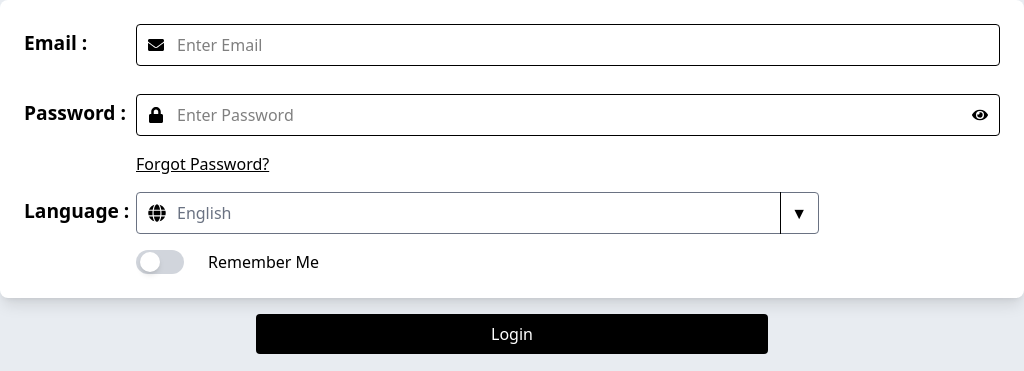
Scenario: LoginForm › shows alert when email is not corporate
This screenshot has width=1024, height=371.
Type "test@gmail.com" into the field with placeholder "Enter Email" at (568, 45), box [136,24,1000,66]
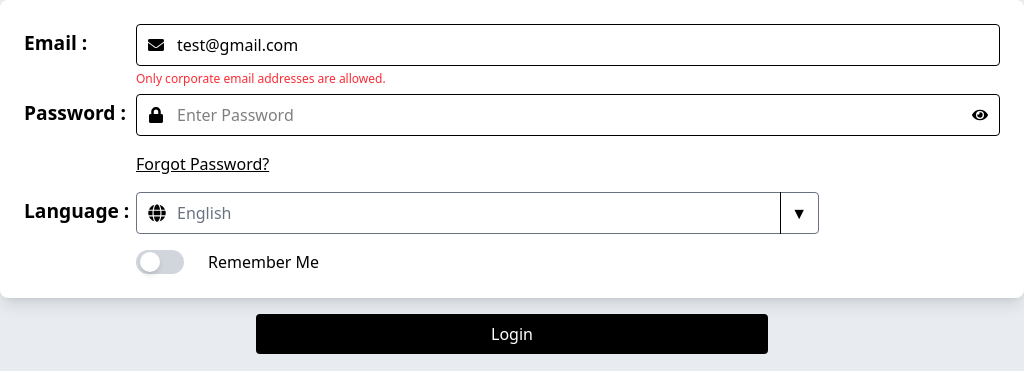
Now the text "Only corporate email addresses are allowed." is shown, box [136,70,386,88]
